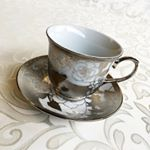cups: (43, 21, 141, 106)
